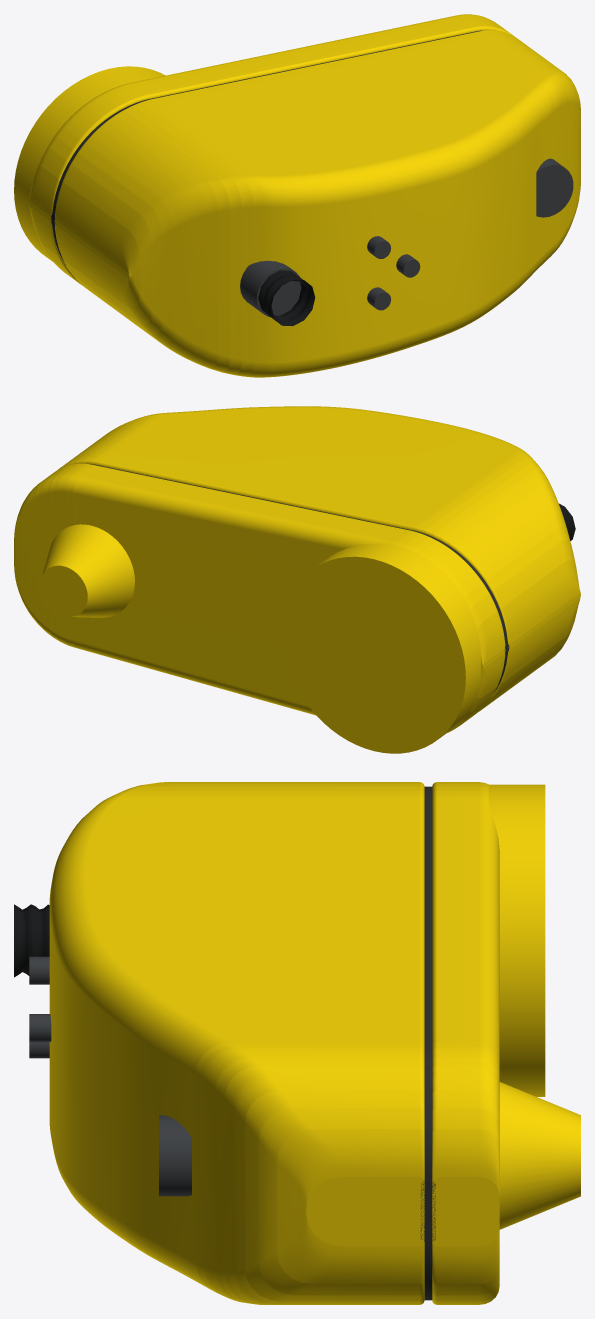
3 views of the same model, one above another, from view 1: azimuth 30°, elevation 25°; view 2: azimuth 150°, elevation 25°; view 3: azimuth 270°, elevation 25° (orthographic). The views are drawn at different scales.
Visible parts, largest first — view 1: head_cover, head_lower, j2_housing, hose_connector, j4_seal, hose_stub, head_parting; view 2: head_cover, head_lower, j2_housing, j4_nose, head_parting; view 3: head_cover, head_lower, j2_housing, j4_nose, head_parting, j4_seal, hose_stub.
Boxes of the visible parts, box(x1,y1,x2,y2) form: head_cover: box(54, 30, 580, 377); head_lower: box(28, 14, 514, 285); j2_housing: box(14, 66, 165, 262); hose_connector: box(240, 260, 301, 317); j4_seal: box(536, 158, 573, 217); hose_stub: box(258, 270, 315, 326); head_parting: box(51, 30, 481, 264); head_cover: box(58, 406, 580, 711); head_lower: box(14, 463, 505, 732); j2_housing: box(282, 543, 481, 753); j4_nose: box(40, 524, 134, 617); head_parting: box(89, 464, 509, 692); head_cover: box(49, 782, 424, 1304); head_lower: box(432, 782, 499, 1304); j2_housing: box(488, 784, 545, 1096); j4_nose: box(499, 1082, 580, 1229); head_parting: box(420, 786, 435, 1300); j4_seal: box(159, 1115, 191, 1196); hose_stub: box(14, 904, 49, 977).
Size of the model in its own units: 0.3145 by 0.125 by 0.223.
